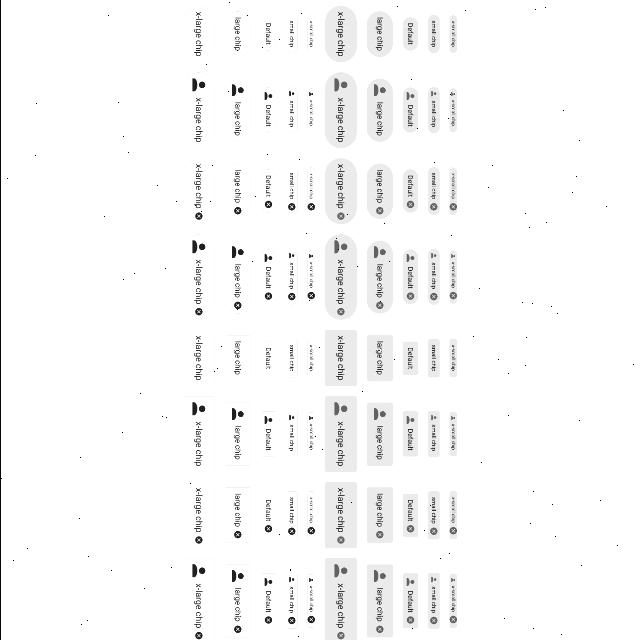QLabel: (334, 11, 344, 57), (192, 335, 202, 381), (334, 583, 344, 629), (192, 12, 202, 56), (192, 98, 202, 142), (334, 98, 344, 142), (334, 164, 344, 208), (192, 164, 202, 208), (334, 260, 344, 304), (192, 260, 202, 304), (334, 336, 344, 380), (334, 422, 344, 466), (192, 422, 202, 466), (334, 488, 344, 532), (192, 488, 202, 532), (192, 584, 202, 628), (374, 16, 384, 52), (374, 102, 384, 136), (374, 588, 384, 622), (373, 169, 382, 203), (373, 264, 382, 298), (373, 426, 382, 460), (373, 493, 382, 527), (232, 16, 240, 52), (232, 102, 240, 136), (232, 169, 240, 203), (232, 264, 240, 298), (374, 341, 382, 375), (232, 341, 240, 375), (232, 426, 240, 460), (232, 493, 240, 527), (232, 588, 240, 622), (286, 20, 294, 48), (429, 172, 436, 200), (429, 586, 436, 614), (430, 20, 436, 48), (287, 100, 293, 128), (429, 100, 435, 128), (429, 262, 435, 290), (287, 344, 293, 372), (287, 424, 293, 452), (429, 496, 435, 524), (287, 586, 293, 614), (287, 173, 293, 199), (287, 263, 293, 289), (429, 345, 435, 371), (429, 425, 435, 451), (287, 497, 293, 523), (264, 22, 270, 46), (406, 266, 412, 290), (406, 590, 412, 614), (406, 23, 412, 45), (264, 105, 270, 127), (407, 105, 413, 127), (406, 175, 412, 197), (264, 175, 270, 197), (264, 267, 270, 289), (407, 348, 413, 370), (264, 347, 270, 369), (406, 429, 412, 451), (264, 429, 270, 451), (406, 500, 412, 522), (264, 500, 270, 522), (264, 591, 270, 613), (450, 20, 454, 48), (308, 20, 312, 48), (308, 99, 312, 127), (450, 172, 454, 200), (450, 496, 454, 524), (308, 496, 312, 524), (308, 424, 312, 451), (450, 100, 454, 126), (308, 173, 312, 199), (450, 262, 454, 288), (308, 262, 312, 288), (450, 345, 454, 371), (308, 345, 312, 371), (308, 586, 312, 612)
VChip: (324, 234, 356, 320), (181, 234, 213, 320), (181, 558, 213, 640), (324, 558, 356, 640), (181, 72, 213, 148), (324, 72, 356, 148), (324, 396, 356, 472), (181, 396, 213, 472), (324, 159, 356, 225), (181, 158, 213, 224), (324, 482, 356, 548), (181, 482, 213, 548), (366, 240, 392, 314), (223, 240, 249, 314), (223, 564, 249, 638), (366, 564, 392, 638), (324, 5, 356, 62), (181, 6, 213, 62), (324, 330, 356, 386), (181, 330, 213, 386), (223, 78, 249, 142), (366, 78, 392, 142), (366, 402, 392, 466), (223, 402, 249, 466), (366, 163, 392, 219), (223, 164, 249, 218), (366, 488, 392, 542), (223, 488, 249, 542), (223, 11, 249, 57), (223, 335, 249, 381), (366, 12, 392, 56), (366, 336, 392, 380), (401, 574, 417, 628), (402, 250, 416, 304), (260, 250, 274, 304), (260, 574, 274, 628), (402, 88, 418, 132), (401, 412, 417, 456), (284, 249, 296, 305), (284, 573, 296, 629), (427, 573, 439, 629), (260, 88, 274, 132), (260, 412, 274, 456), (402, 170, 416, 212), (260, 170, 274, 212), (402, 494, 416, 536), (260, 494, 274, 536), (427, 167, 439, 215), (284, 167, 296, 215), (427, 491, 439, 539), (284, 491, 296, 539), (284, 87, 296, 133), (427, 411, 439, 457), (284, 411, 296, 457), (401, 341, 417, 375), (428, 250, 438, 304), (259, 18, 275, 50), (427, 338, 439, 378), (284, 338, 296, 378), (402, 16, 416, 49), (428, 87, 438, 133), (284, 15, 296, 53), (260, 342, 274, 374), (448, 250, 456, 304), (306, 250, 314, 304), (306, 574, 314, 628), (448, 574, 456, 628), (448, 491, 456, 539), (306, 491, 314, 539), (428, 15, 438, 53), (448, 168, 456, 215), (306, 168, 314, 215), (306, 88, 314, 132), (448, 88, 456, 132), (448, 412, 456, 456), (306, 412, 314, 456), (448, 15, 456, 53), (306, 15, 314, 53), (448, 339, 456, 377), (306, 339, 314, 377)
VIcon: (190, 78, 204, 92), (333, 78, 347, 92), (190, 240, 204, 254), (190, 402, 204, 416), (190, 564, 204, 578), (334, 402, 346, 416), (334, 564, 346, 578), (334, 240, 346, 253), (230, 84, 242, 96), (373, 84, 385, 96), (373, 246, 385, 258), (230, 246, 242, 258), (230, 570, 242, 582), (373, 570, 385, 582), (230, 408, 242, 419), (374, 408, 384, 419), (263, 92, 271, 100), (405, 92, 413, 100), (429, 203, 437, 211), (406, 200, 414, 208), (375, 207, 383, 215), (336, 212, 344, 220), (263, 200, 271, 208), (232, 207, 240, 215), (193, 212, 201, 220), (448, 292, 456, 300), (429, 293, 437, 301), (405, 254, 413, 262), (405, 292, 413, 300), (336, 308, 344, 316), (306, 292, 314, 300), (286, 293, 294, 301), (263, 254, 271, 262), (263, 292, 271, 300), (232, 301, 240, 309), (193, 308, 201, 316), (405, 416, 413, 424), (263, 416, 271, 424), (405, 525, 413, 533), (336, 536, 344, 544), (286, 527, 294, 535), (263, 525, 271, 533), (232, 531, 240, 539), (193, 536, 201, 544), (263, 578, 271, 586), (263, 616, 271, 624), (286, 616, 294, 624), (306, 616, 314, 624), (406, 578, 414, 586), (405, 616, 413, 624), (429, 616, 437, 624), (448, 616, 456, 624), (448, 203, 456, 210), (306, 203, 314, 210), (286, 203, 294, 210), (193, 632, 200, 640), (448, 528, 456, 534), (429, 528, 437, 534), (306, 528, 314, 534), (232, 626, 240, 632), (336, 632, 344, 638), (375, 626, 383, 632), (288, 91, 294, 97), (287, 414, 293, 420), (376, 532, 382, 538), (430, 576, 436, 582), (430, 92, 436, 96), (430, 254, 436, 258), (287, 254, 293, 258), (430, 416, 436, 420), (288, 576, 292, 582), (308, 92, 312, 96), (450, 92, 454, 96), (451, 254, 455, 258), (308, 254, 312, 258), (450, 416, 454, 420), (308, 416, 312, 420), (308, 578, 312, 582), (450, 578, 454, 582)
